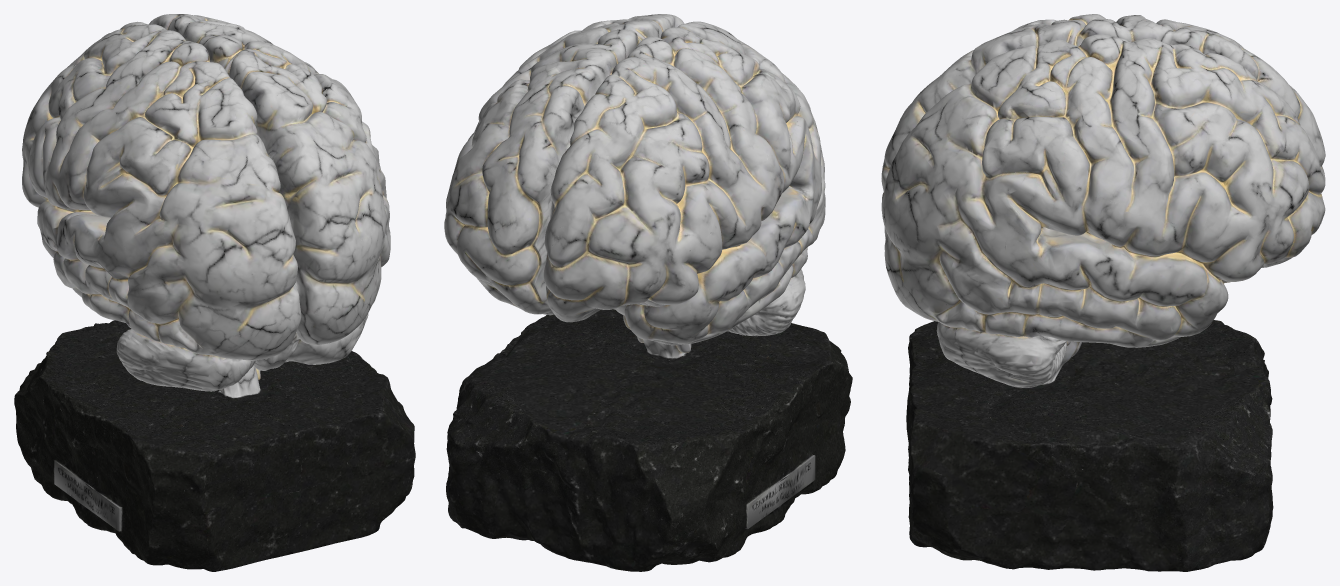
The model's file is brain.glb.
The picture shows the model from 3 angles, left to right: view 1: azimuth 30°, elevation 25°; view 2: azimuth 150°, elevation 25°; view 3: azimuth 270°, elevation 25°; orthographic projection. The views are drawn at different scales.
Bounding box in the file's own units: 1.31 × 1.91 × 1.62.
1 material, 1 textured.
